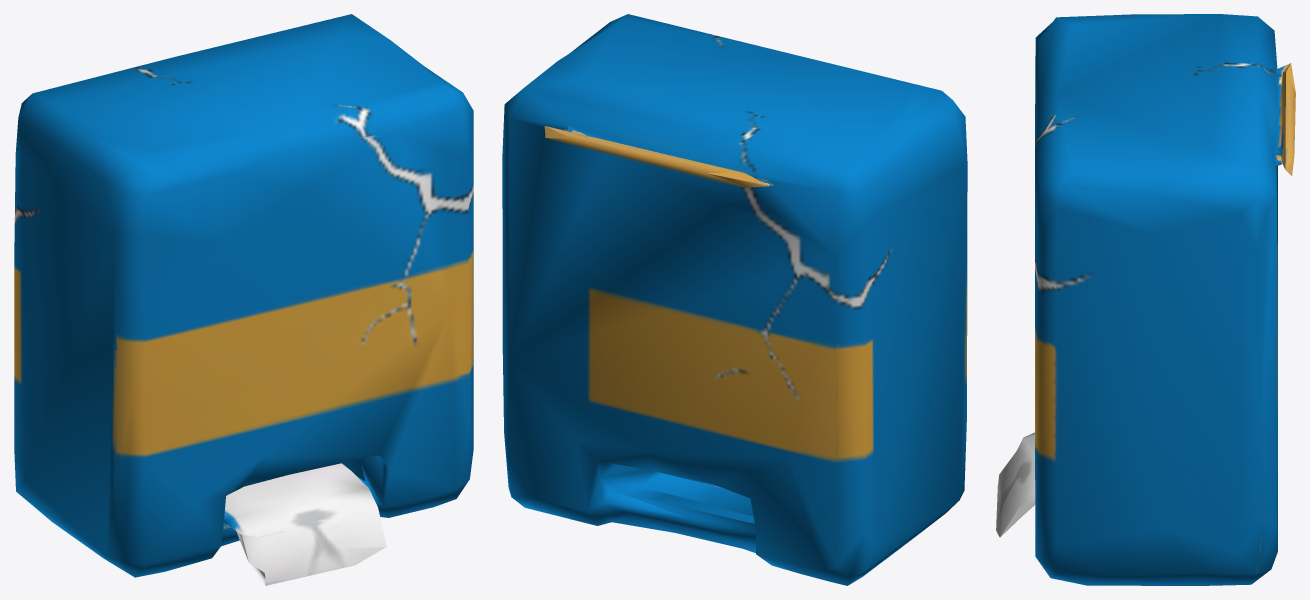
Rendered from paper-towel-dispenser-broken.glb.
The picture shows the model from 3 angles, left to right: view 1: azimuth 30°, elevation 25°; view 2: azimuth 150°, elevation 25°; view 3: azimuth 270°, elevation 25°; orthographic projection.
Visible parts, largest first — view 1: geometry_0.001; view 2: geometry_0.001; view 3: geometry_0.001.
Boxes of the visible parts, x1,y1,x2,y2 form: geometry_0.001: [14, 14, 473, 585]; geometry_0.001: [502, 14, 967, 585]; geometry_0.001: [996, 14, 1295, 585].
Bounding box in the file's own units: 0.8817 × 0.9976 × 0.6385.
1 material, 1 textured.
